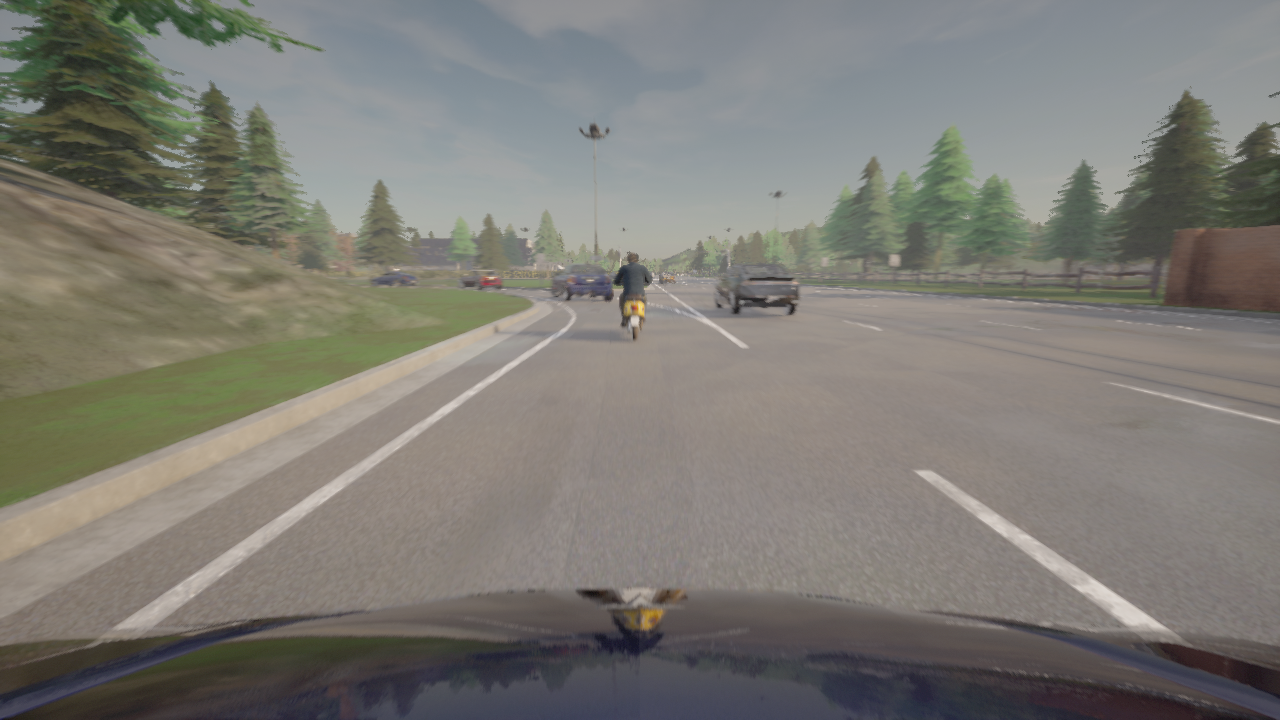cyclist: (0, 588, 1279, 719), (714, 263, 799, 315), (611, 272, 654, 340), (551, 262, 612, 300), (458, 270, 501, 289), (370, 271, 418, 286), (659, 271, 674, 282)
